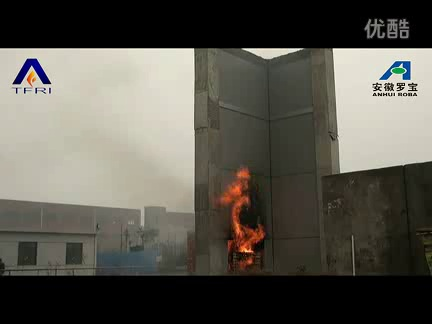fire: (216, 164, 266, 268)
